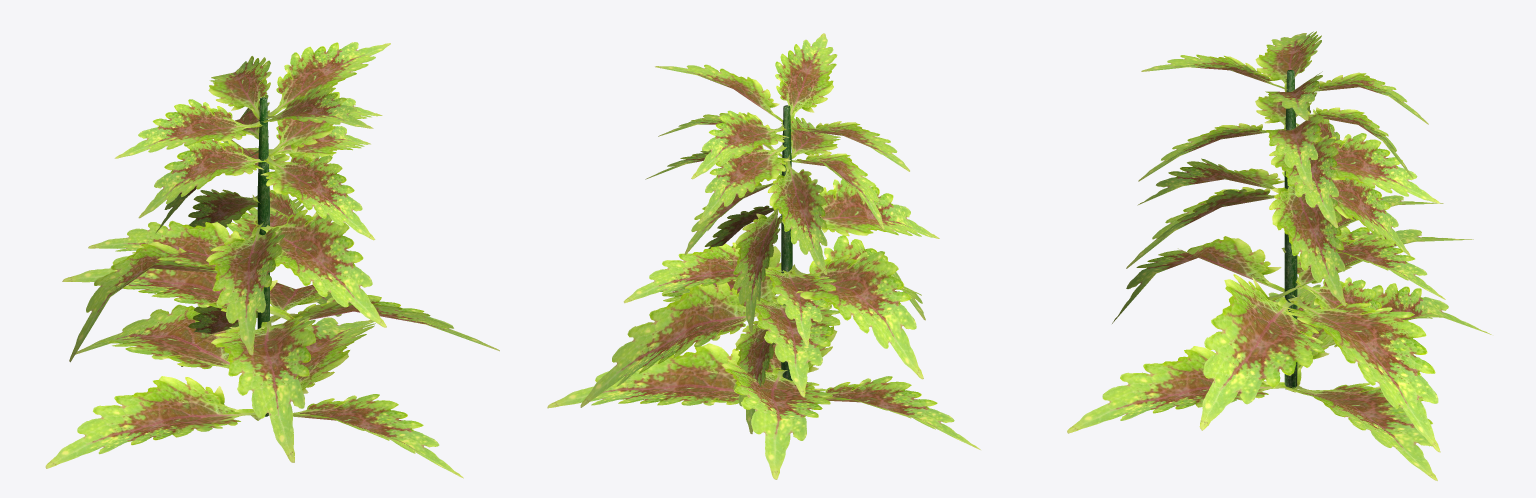
The model's file is plant n.dae.
3 renders of one model, left to right at view 1: azimuth 30°, elevation 25°; view 2: azimuth 150°, elevation 25°; view 3: azimuth 270°, elevation 25°, orthographic. The views are drawn at different scales.
Parts seen in each view (by area): view 1: Form1, Group2_Form1, Shape0; view 2: Form1, Group2_Form1, Shape0; view 3: Form1, Group2_Form1, Shape0.
Boxes of the visible parts, <box> form: Form1: <box>45,42,499,478</box>; Group2_Form1: <box>114,99,275,218</box>; Shape0: <box>257,97,269,416</box>; Form1: <box>547,33,980,479</box>; Group2_Form1: <box>790,121,909,229</box>; Shape0: <box>781,105,792,380</box>; Form1: <box>1067,54,1491,480</box>; Group2_Form1: <box>1255,31,1321,128</box>; Shape0: <box>1284,70,1297,388</box>.
Size of the model in its own units: 93.17 by 70.92 by 86.89.
Materials: 2 (2 with a texture image).
